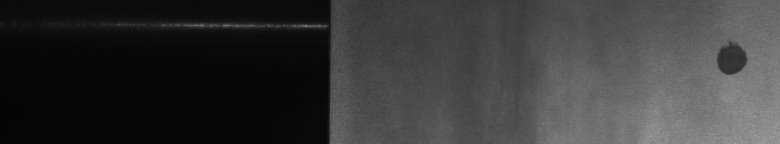fi: (709, 32, 755, 84)
